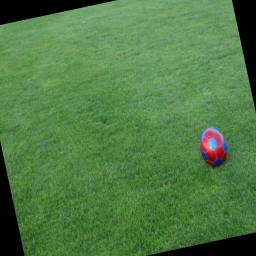football: (196, 124, 232, 172)
